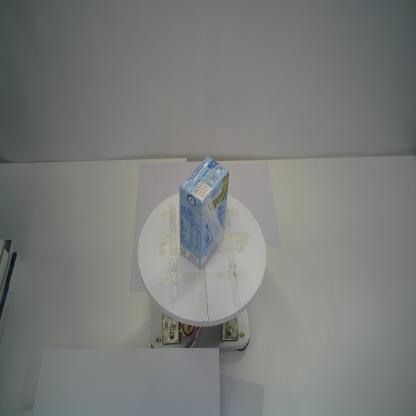Milk: (179, 154, 229, 270)
